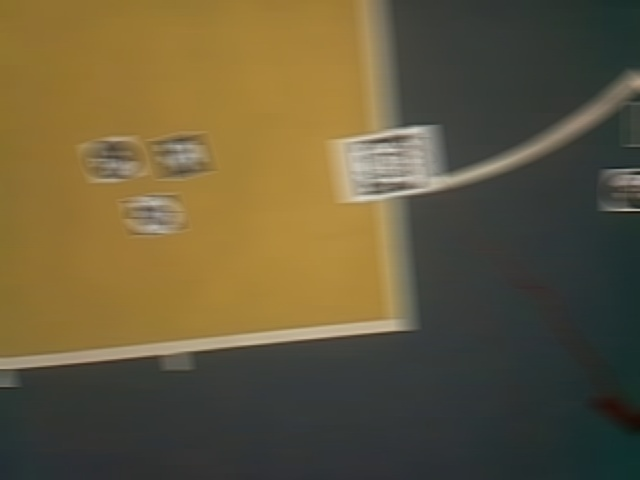landing-zone: (119, 190, 189, 240)
